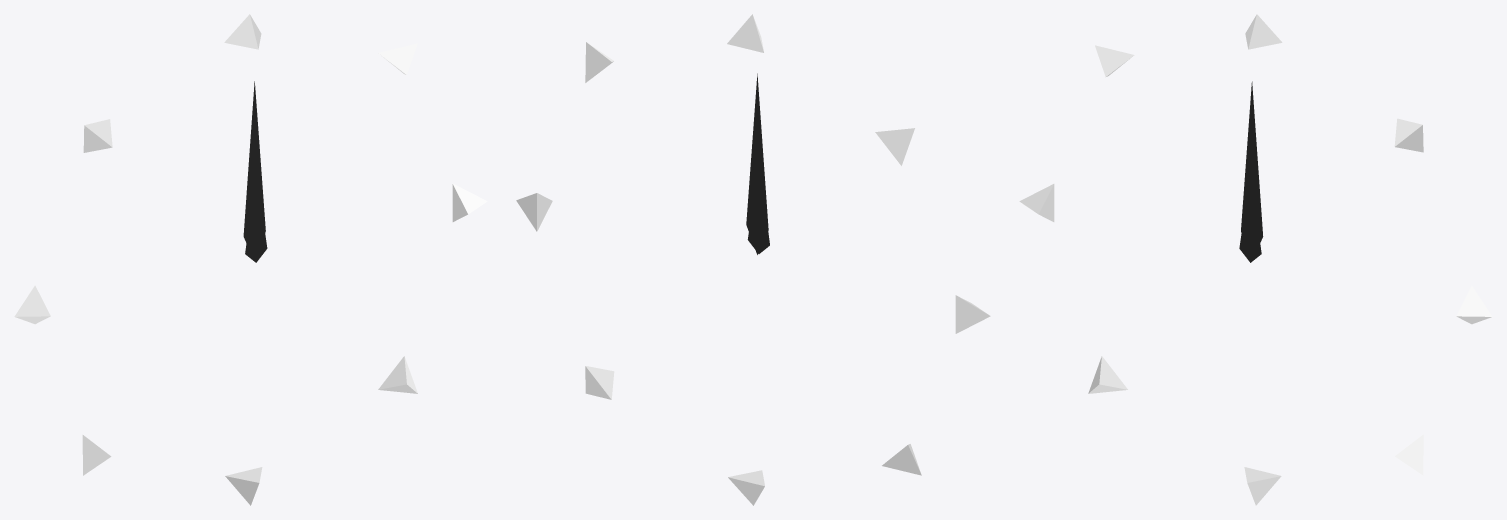
File: uvmd-0239.glb
3 views of the same model, side by side, from view 1: azimuth 30°, elevation 25°; view 2: azimuth 150°, elevation 25°; view 3: azimuth 330°, elevation 25° (orthographic).
Parts seen in each view (by area): view 1: uvmd-0239; view 2: uvmd-0239; view 3: uvmd-0239.
Part boxes in pixels (bbox=[...]): uvmd-0239: bbox=[14, 14, 487, 505]; uvmd-0239: bbox=[516, 14, 990, 505]; uvmd-0239: bbox=[1019, 14, 1492, 505].
Bounding box in the file's own units: 4154 × 4119 × 280.
Materials: 1 (1 with a texture image).
